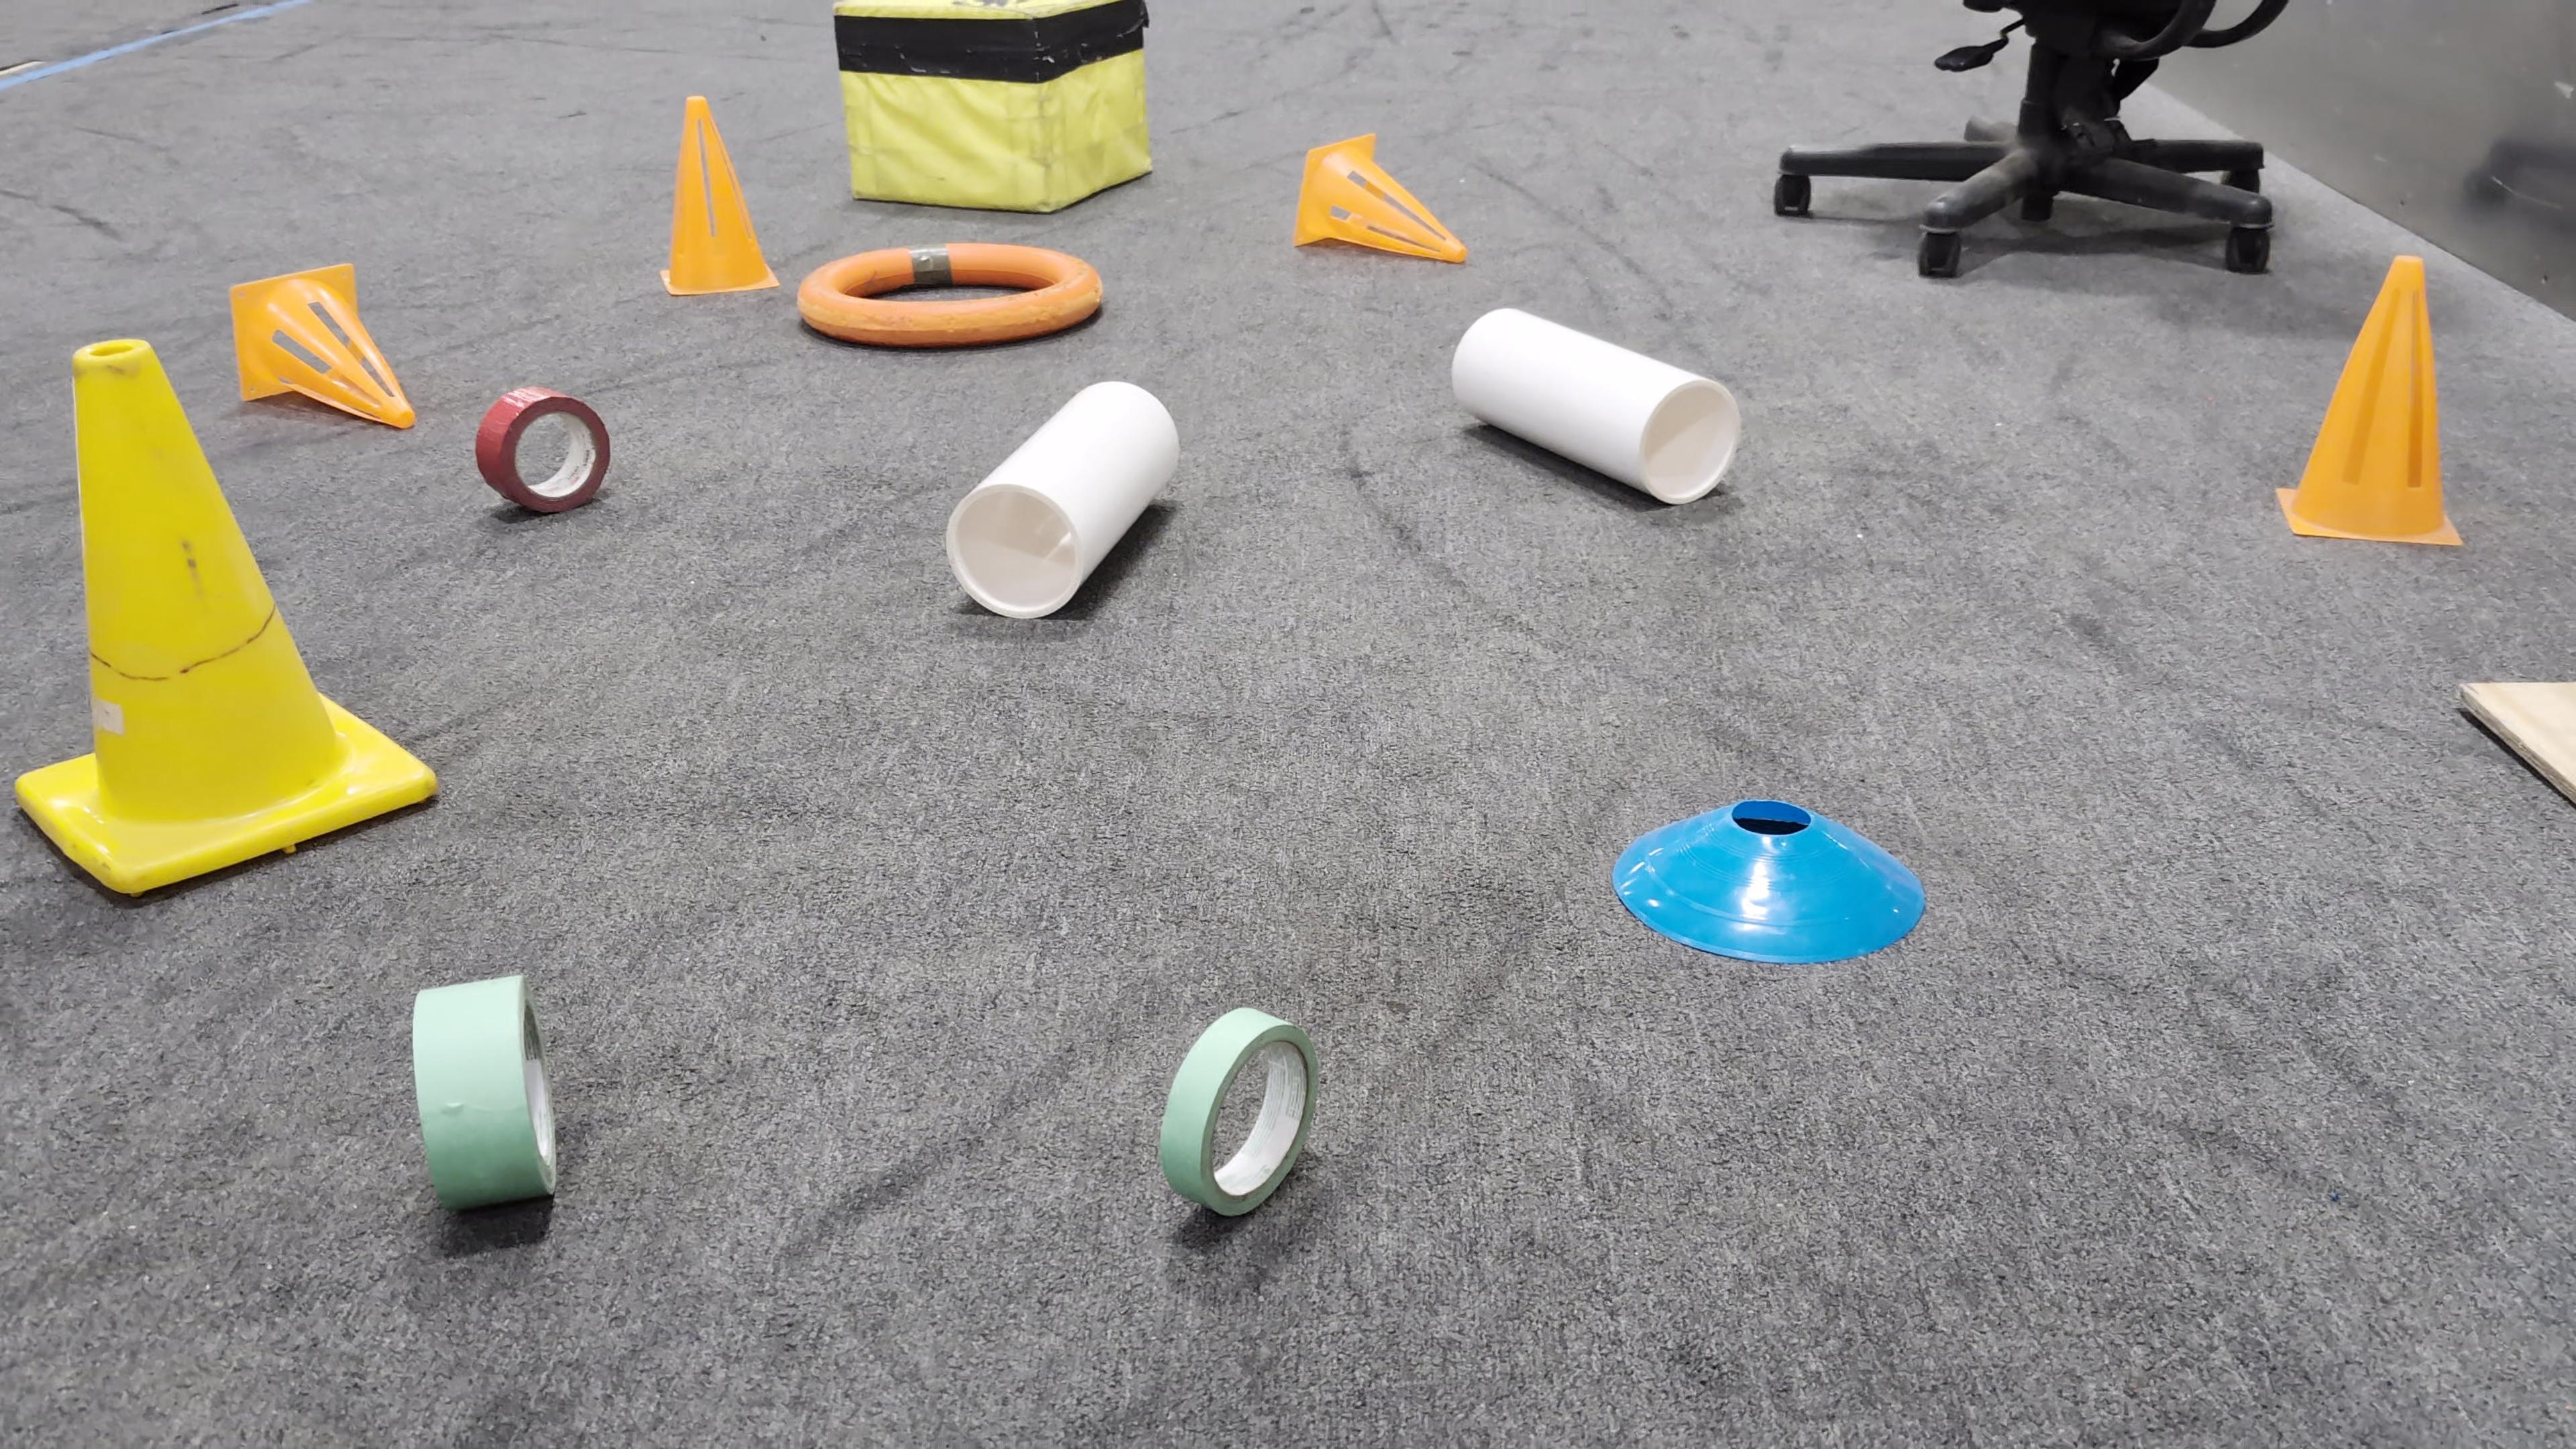coral: (1449, 303, 1743, 504), (945, 375, 1182, 619)
